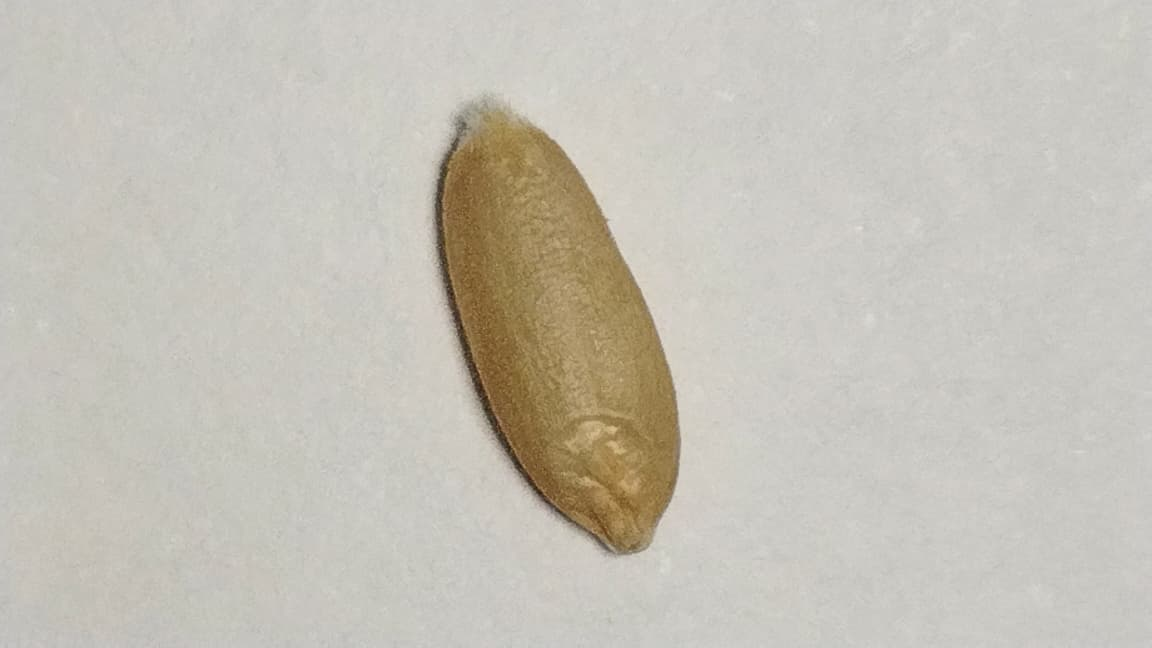healthy: (440, 108, 680, 552)
